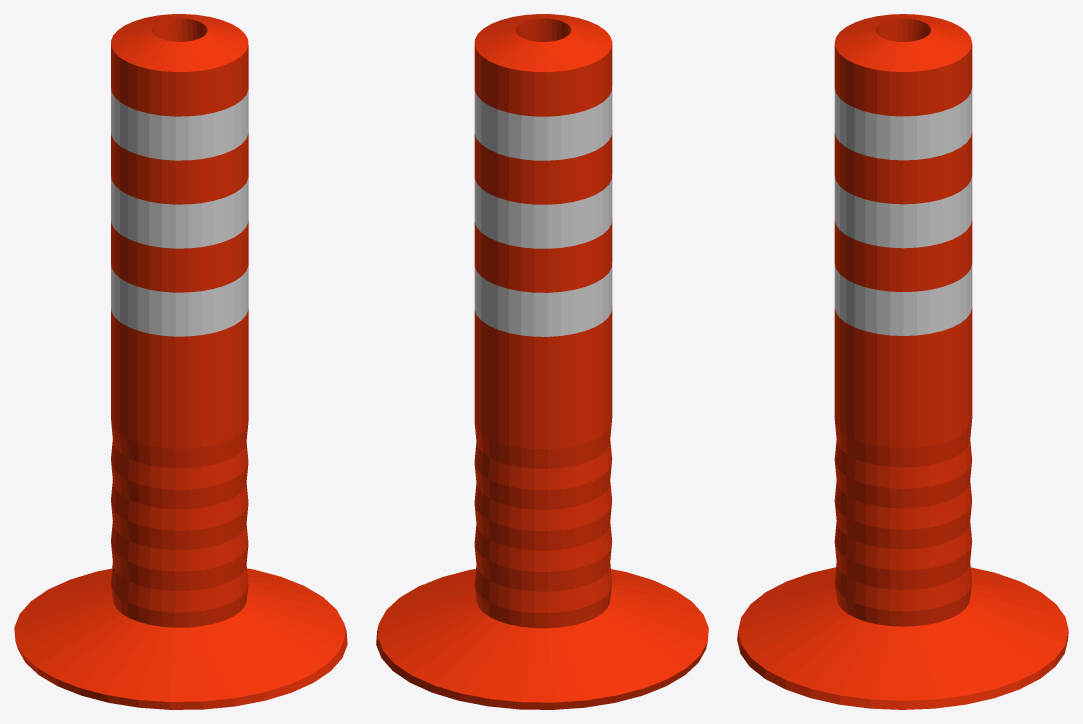
File: traffic_buoy 1.fbx
The picture shows the model from 3 angles, left to right: view 1: azimuth 30°, elevation 25°; view 2: azimuth 150°, elevation 25°; view 3: azimuth 270°, elevation 25°; orthographic projection.
Visible parts, largest first — view 1: traffic_buoy; view 2: traffic_buoy; view 3: traffic_buoy.
Part boxes in pixels (x1,y1,x2,y2): traffic_buoy: (14,14,347,709); traffic_buoy: (376,14,708,709); traffic_buoy: (737,14,1068,709).
Size of the model in its own units: 201 by 406 by 201.
